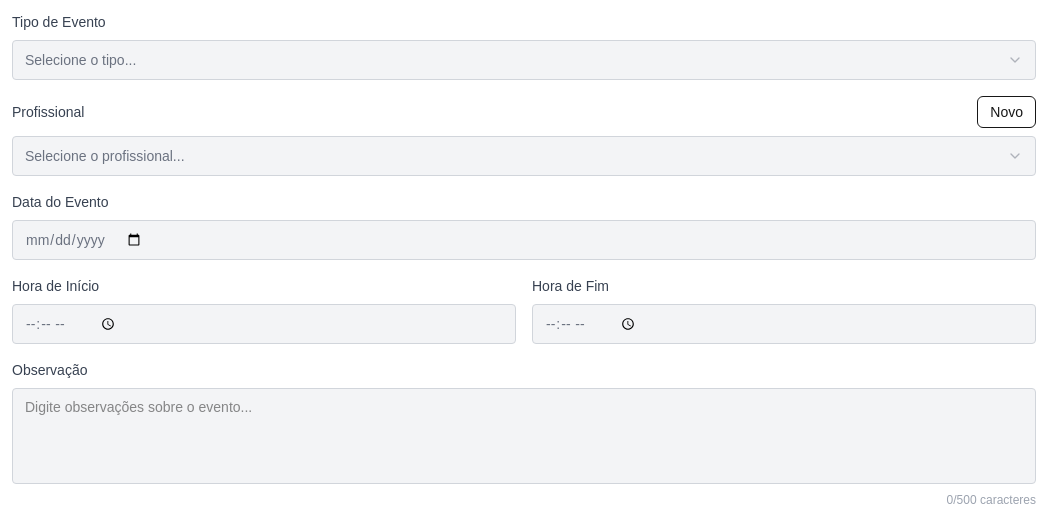
EventForm › renders professional select with options
Click the dropdown "Selecione o profissional...".
click(105, 156)  # box x1=12 y1=136 x2=1036 y2=176
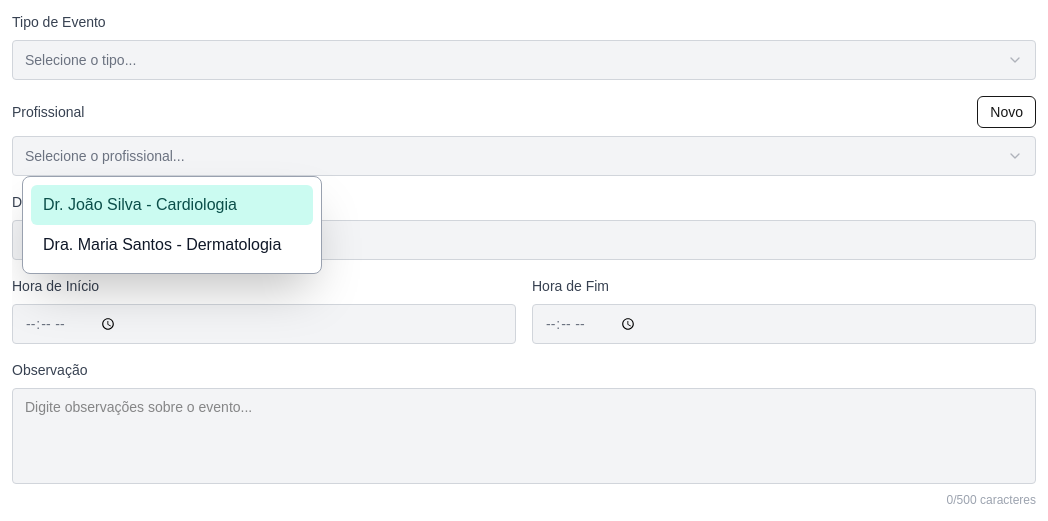
Expected: the text "Dr. João Silva - Cardiologia" is shown, x1=43 y1=193 x2=237 y2=217
Expected: the text "Dra. Maria Santos - Dermatologia" is shown, x1=43 y1=233 x2=281 y2=257
